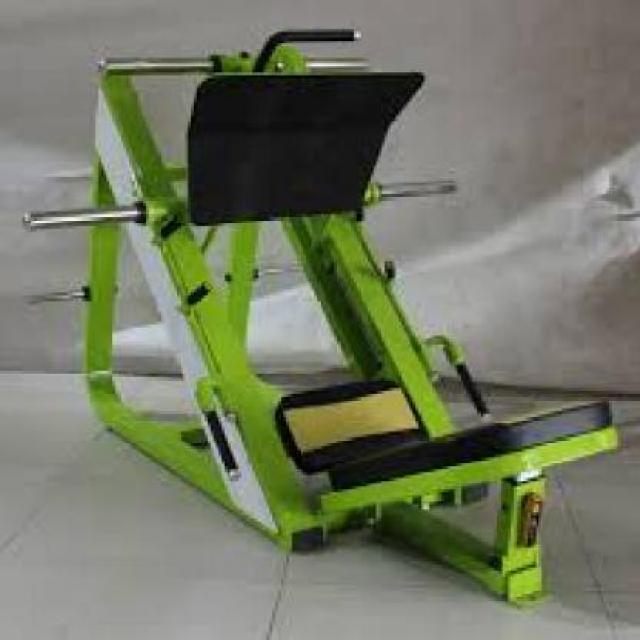leg press: (18, 15, 630, 611)
